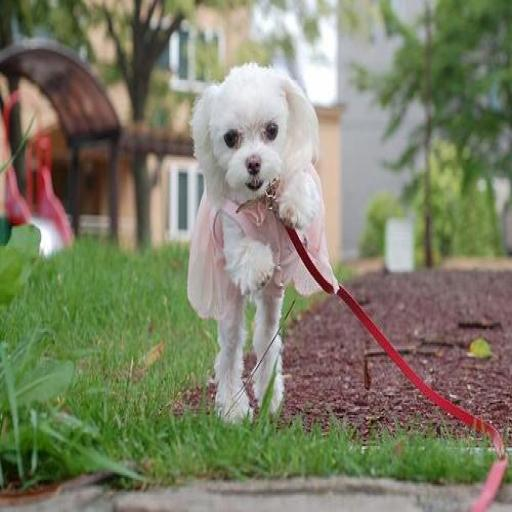dog_face: (191, 70, 301, 201)
